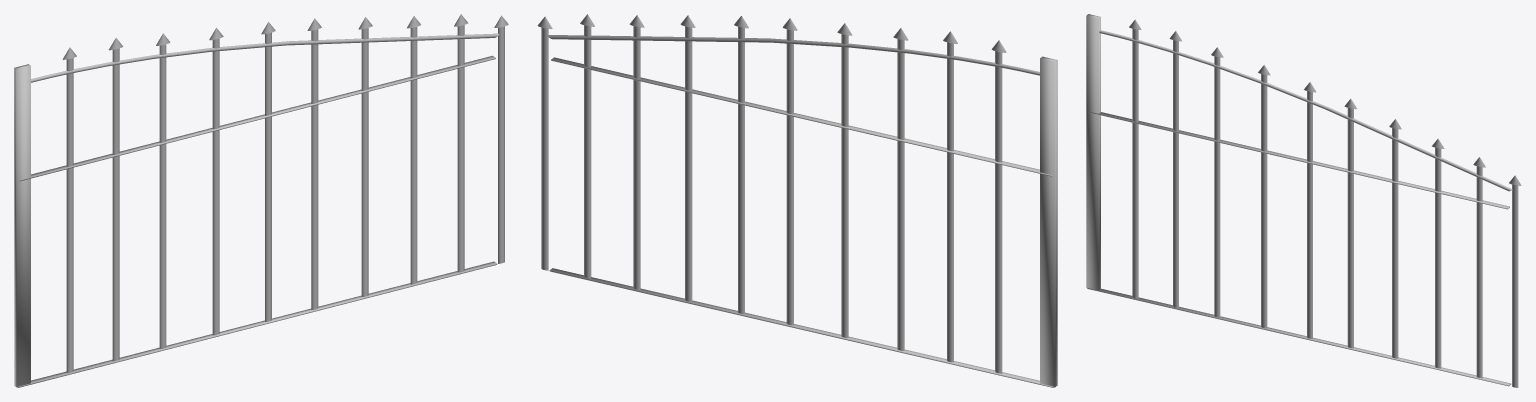
File: puerta1.obj
The picture shows the model from 3 angles, left to right: view 1: azimuth 30°, elevation 25°; view 2: azimuth 150°, elevation 25°; view 3: azimuth 330°, elevation 25°; orthographic projection. The views are drawn at different scales.
Parts seen in each view (by area): view 1: door_2_Cubo_2, door_2_Cilindro, door_2_Cilindro_132, door_2_Cilindro_133, door_2_Cilindro_11, door_2_Cilindro_7, door_2_Cubo9, door_2_Sweep_NURBS, door_2_Cubo_18, door_2_Cilindro_5, door_2_Cilindro_2, door_2_Cilindro_91 (+2 smaller); view 2: door_2_Cubo_2, door_2_Cilindro, door_2_Cilindro_133, door_2_Cilindro_11, door_2_Cilindro_91, door_2_Sweep_NURBS, door_2_Cubo9, door_2_Cubo_18, door_2_Cilindro_132, door_2_Cilindro_5, door_2_Cilindro_2, door_2_Cilindro1 (+2 smaller); view 3: door_2_Cubo_2, door_2_Cilindro, door_2_Cilindro_133, door_2_Cilindro_11, door_2_Sweep_NURBS, door_2_Cilindro_7, door_2_Cubo9, door_2_Cubo_18, door_2_Cilindro_5, door_2_Cilindro_132, door_2_Cilindro_2, door_2_Cilindro_91 (+2 smaller).
Boxes of the visible parts, x1,y1,x2,y2 form: door_2_Cubo_2: (14,64,30,387); door_2_Cilindro: (66,58,73,372); door_2_Cilindro_132: (112,48,119,361); door_2_Cilindro_133: (159,44,166,348); door_2_Cilindro_11: (212,38,219,335); door_2_Cilindro_7: (311,29,318,309); door_2_Cubo9: (18,261,497,387); door_2_Sweep_NURBS: (31,33,499,82); door_2_Cubo_18: (19,55,495,181); door_2_Cilindro_5: (361,28,368,296); door_2_Cilindro_2: (410,27,417,284); door_2_Cilindro_91: (265,32,271,321); door_2_Cubo_2: (1040,56,1057,387); door_2_Cilindro: (995,51,1002,373); door_2_Cilindro_133: (897,39,904,350); door_2_Cilindro_11: (841,34,848,337); door_2_Cilindro_91: (786,29,793,325); door_2_Sweep_NURBS: (547,35,1039,75); door_2_Cubo9: (549,268,1053,387); door_2_Cubo_18: (551,57,1052,176); door_2_Cilindro_132: (947,42,953,362); door_2_Cilindro_5: (685,26,692,301); door_2_Cilindro_2: (633,26,640,289); door_2_Cilindro1: (584,25,591,278); door_2_Cubo_2: (1086,14,1100,290); door_2_Cilindro: (1132,29,1138,298); door_2_Cilindro_133: (1214,56,1220,317); door_2_Cilindro_11: (1261,74,1267,328); door_2_Sweep_NURBS: (1099,30,1512,191); door_2_Cilindro_7: (1347,108,1353,348); door_2_Cubo9: (1087,288,1511,386); door_2_Cubo_18: (1088,111,1509,209); door_2_Cilindro_5: (1392,128,1398,358); door_2_Cilindro_132: (1173,40,1178,307); door_2_Cilindro_2: (1435,147,1441,368); door_2_Cilindro_91: (1307,91,1312,338).
Size of the model in its own units: 8.86 by 5.53 by 0.2925.
1 material, 1 textured.
